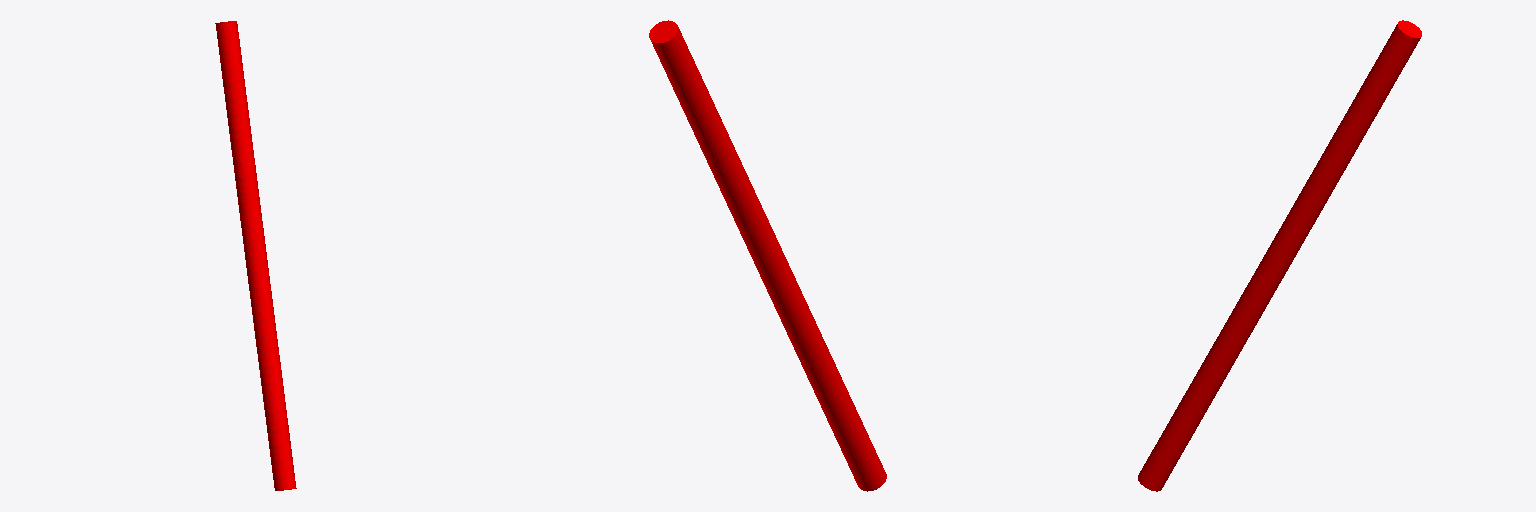
URDF robot description (tree_82.urdf):
<?xml version='1.0' encoding='utf-8'?>
<robot name="tree_82.urdf">
  <link name="branch_0">
    <inertial>
      <origin xyz="0.0 0.0 0.0" rpy="0.0 -0.0 0.0" />
      <mass value="1.0" />
      <inertia ixx="1.0" ixy="0.0" ixz="0.0" iyy="1.0" iyz="0.0" izz="1.0" />
    </inertial>
    <visual name="branch_0_visual">
      <geometry>
        <cylinder radius="0.046586800916447006" length="2.012707266325441" />
      </geometry>
      <material name="semantic_material" />
      <origin xyz="0.10827498728522543 0.4409747373708235 0.898089885873861" rpy="1.3877787807814457e-17 0.4681163660946006 1.330023865685166" />
    </visual>
    <collision name="branch_0_collision">
      <geometry>
        <cylinder radius="0.046586800916447006" length="2.012707266325441" />
      </geometry>
      <origin xyz="0.10827498728522543 0.4409747373708235 0.898089885873861" rpy="1.3877787807814457e-17 0.4681163660946006 1.330023865685166" />
    </collision>
  </link>
  <material name="semantic_material">
    <color rgba="1. 0. 0. 1." />
  </material>
</robot>

--- Facts derived from the render (not from the file) ---
The picture shows the robot from 3 angles, left to right: view 1: azimuth 30°, elevation 25°; view 2: azimuth 150°, elevation 25°; view 3: azimuth 270°, elevation 25°; orthographic projection.
Model tree_82.urdf with 1 links and 0 joints (none), rooted at branch_0, posed all joints at 0.
Links seen in each view (by area): view 1: branch_0; view 2: branch_0; view 3: branch_0.
Link boxes in pixels (x1,y1,x2,y2): branch_0: (215, 21, 296, 490); branch_0: (649, 20, 886, 491); branch_0: (1138, 20, 1421, 491).
Size in the robot's own frame: 0.3092 by 0.9655 by 1.84 metres.
Geometry: primitives only (box / cylinder / sphere), no mesh files.